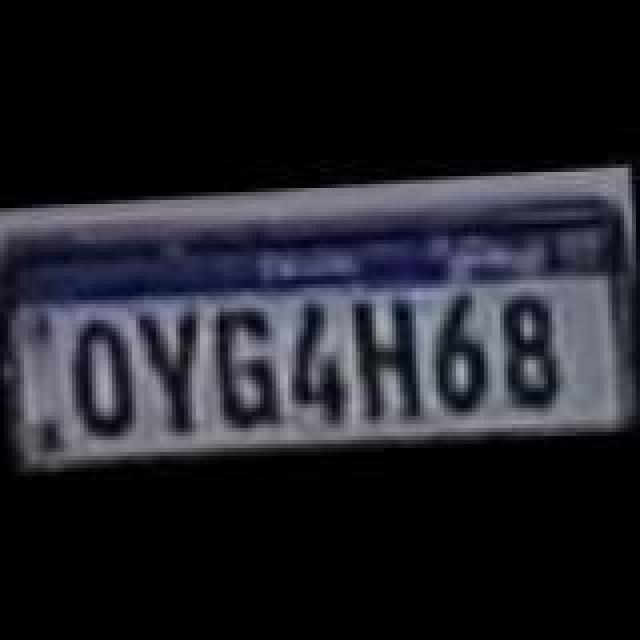4: (282, 292, 358, 428)
6: (418, 296, 494, 420)
8: (496, 286, 568, 410)
G: (204, 304, 284, 436)
H: (342, 288, 426, 420)
O: (60, 316, 136, 444)
Y: (138, 304, 214, 436)
